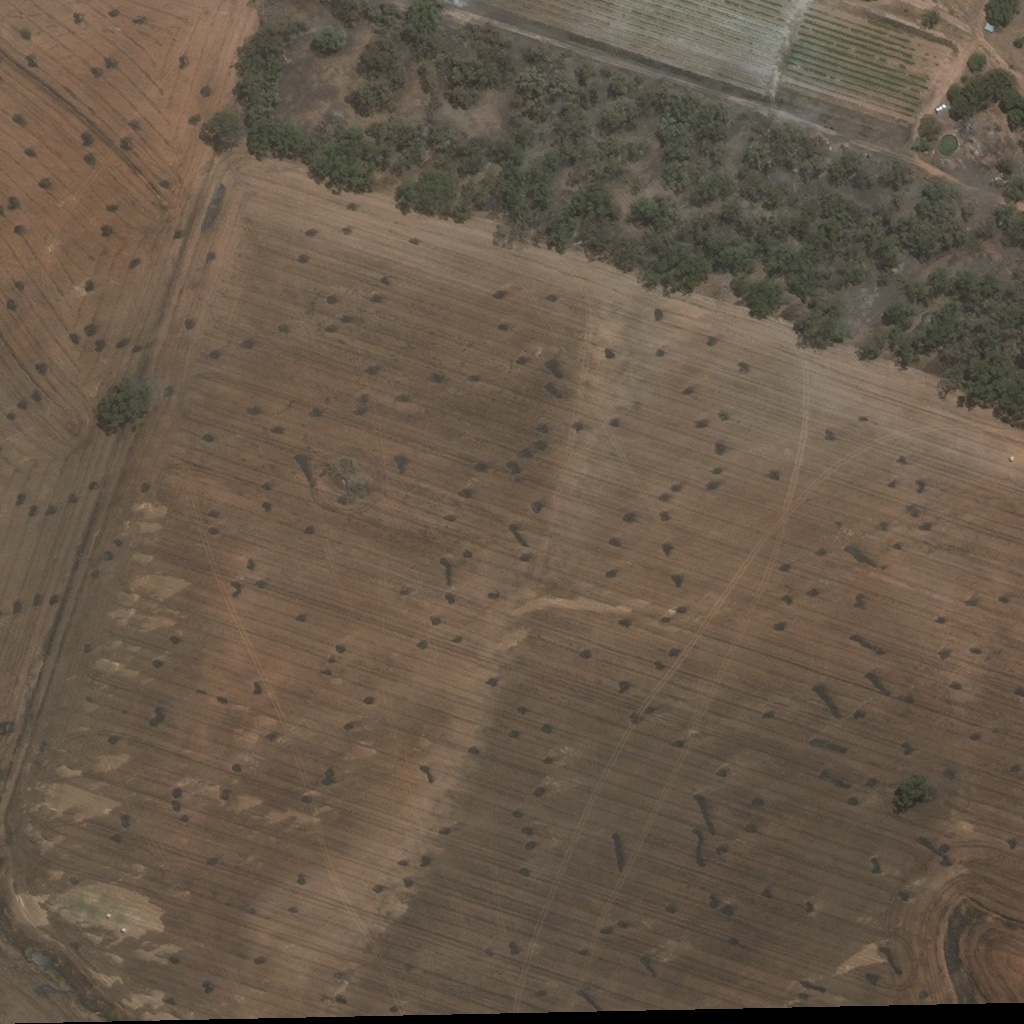0 no-damage: (982, 16, 998, 31), (935, 98, 949, 109)
